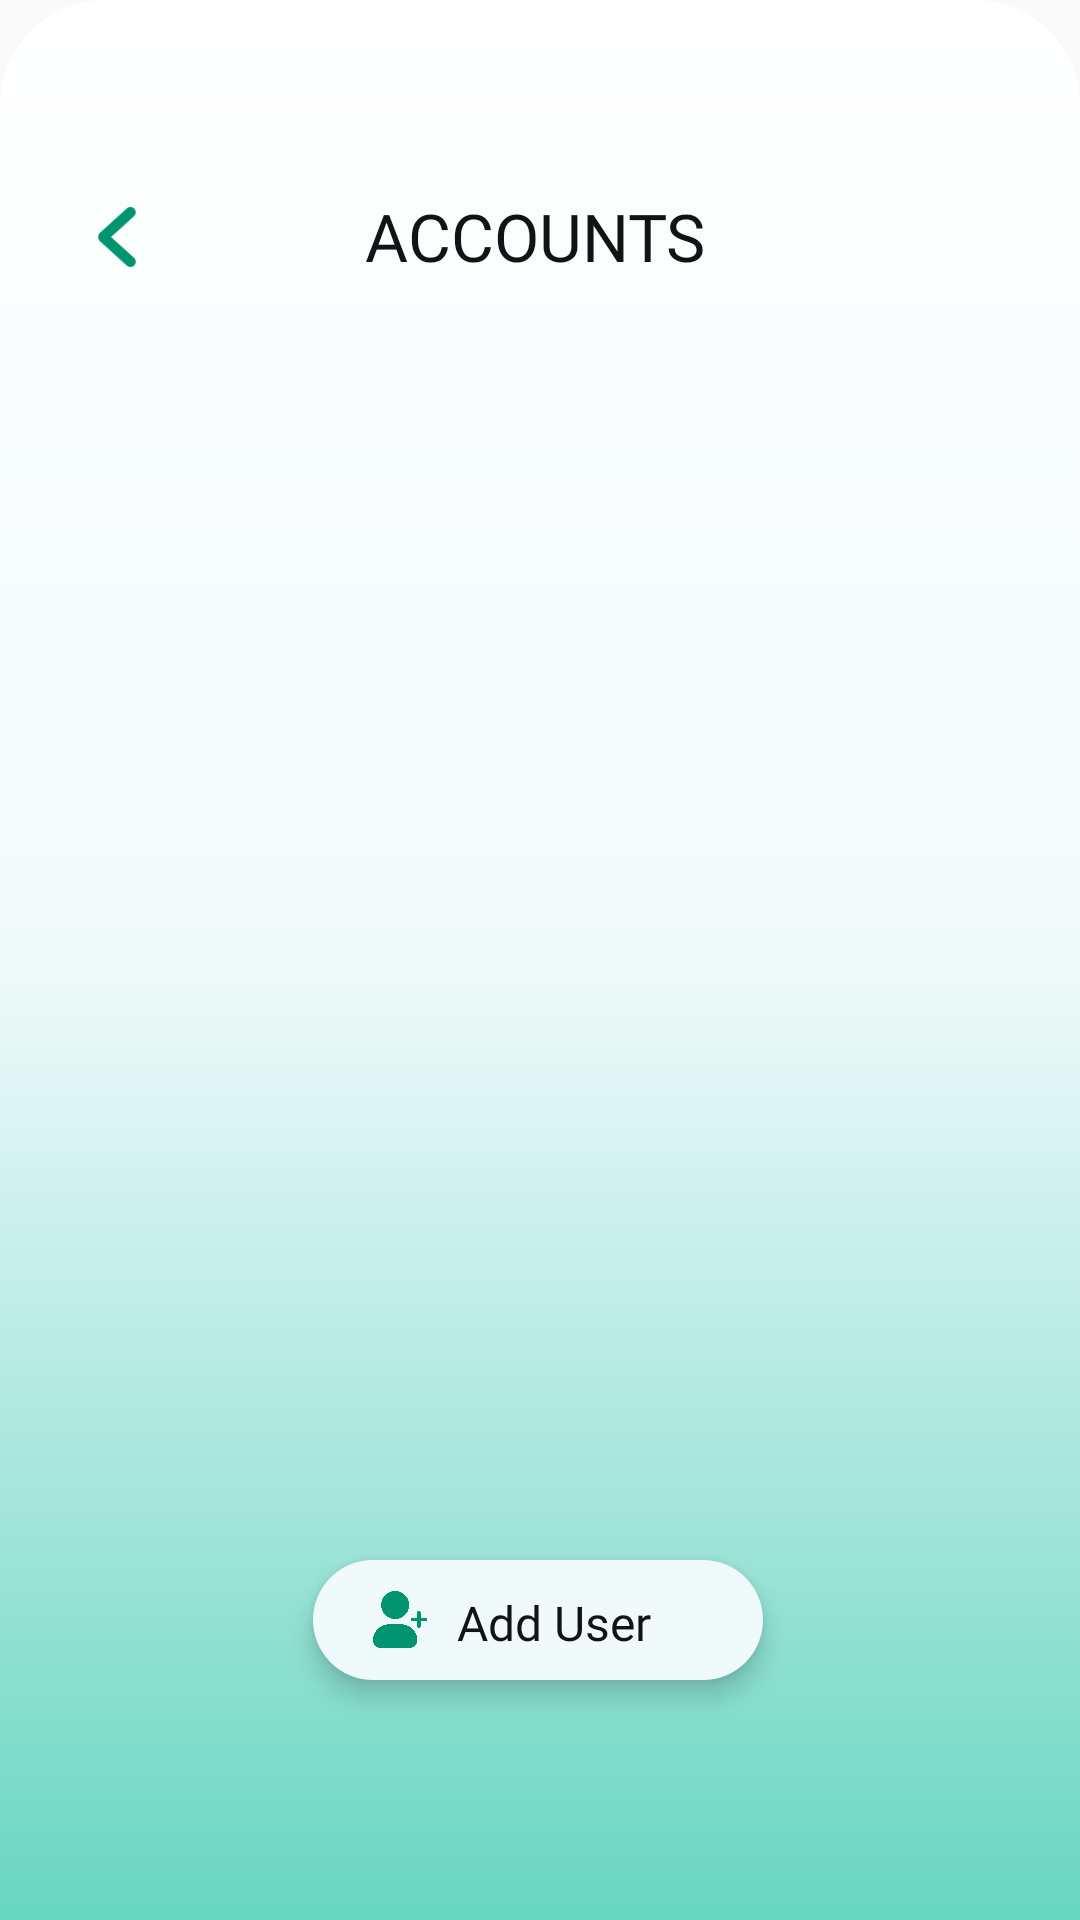

Where to tap for icons on this 1080px x 1920px app screen, as point (x, y):
back arrow: point (117, 237)
